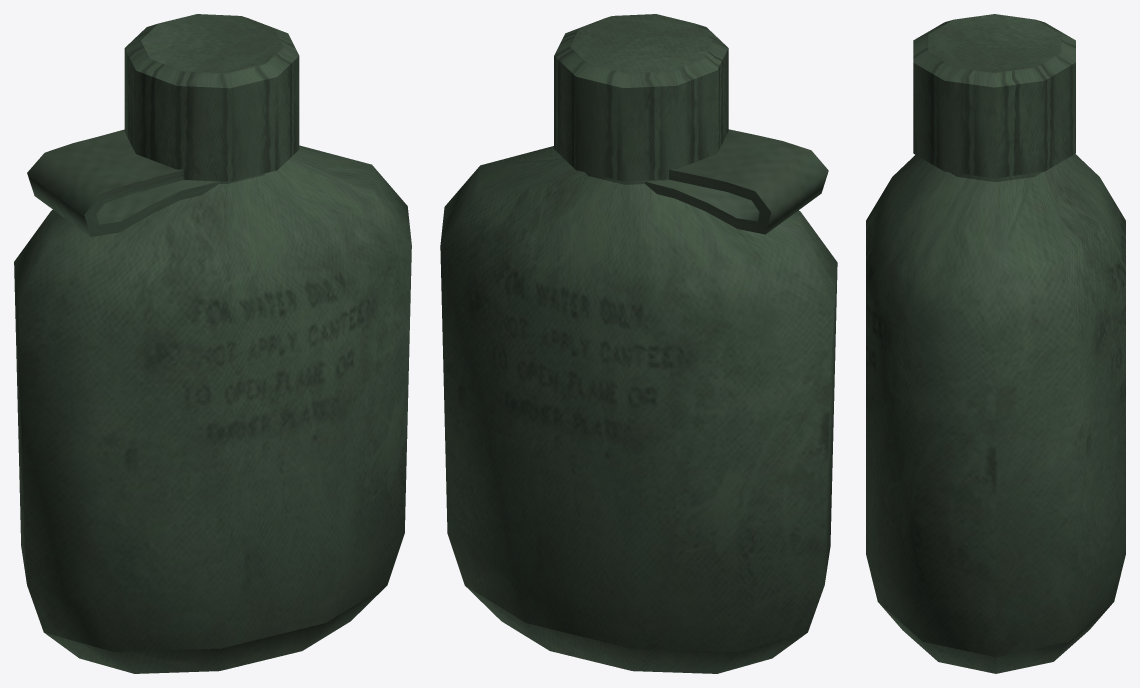
File: Pickup_Canteen.fbx
3 renders of one model, left to right at view 1: azimuth 30°, elevation 25°; view 2: azimuth 150°, elevation 25°; view 3: azimuth 270°, elevation 25°, orthographic. The views are drawn at different scales.
Visible parts, largest first — view 1: canteen_mesh; view 2: canteen_mesh; view 3: canteen_mesh.
Part boxes in pixels (x1,y1,x2,y2): canteen_mesh: (14,14,411,673); canteen_mesh: (440,14,837,673); canteen_mesh: (866,14,1125,673).
Bounding box in the file's own units: 1.54 × 2.2 × 0.9167.
